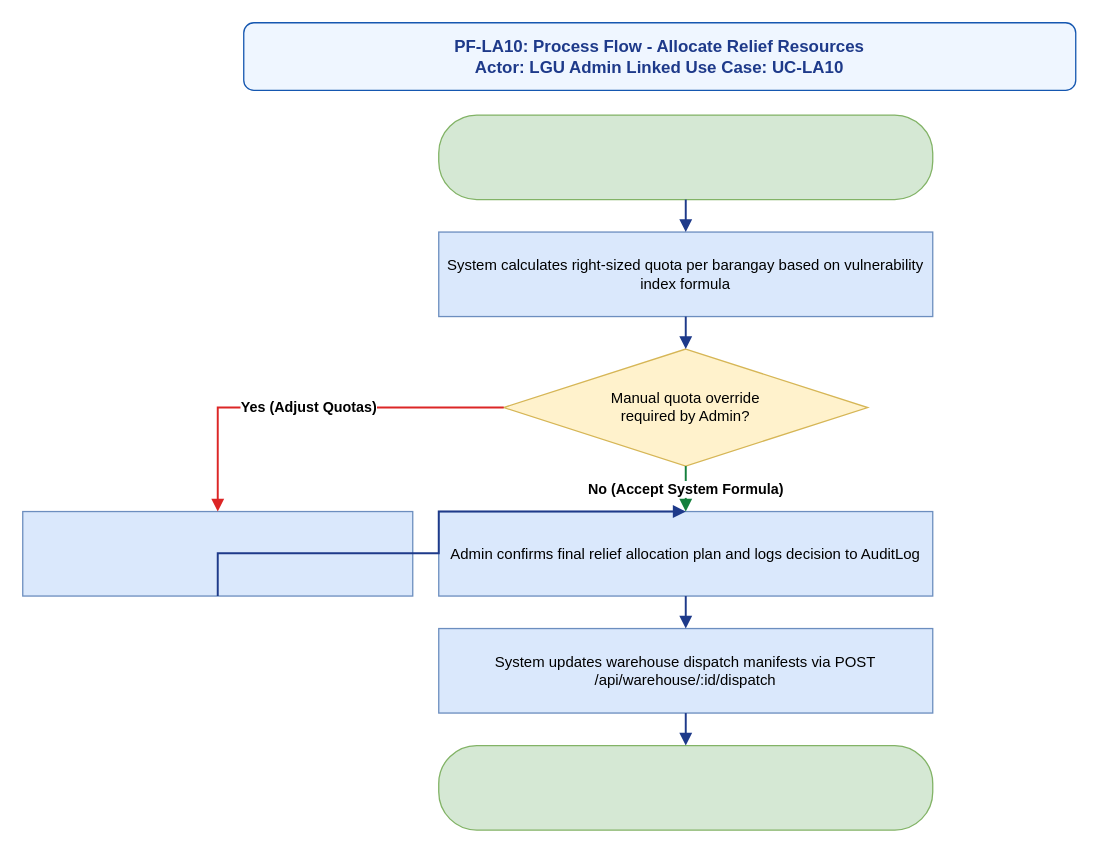
Image size: 1099x853. Some labels were removed from this diagram. The centre of each missing label's shape, as x and y in pixels:
"Admin manually fine-tunes specific barangay package quotas in modal" goes at pixel 217 553.
"END: Relief resources allocated equitably across all barangays" goes at pixel 685 787.
"START: LGU Admin opens ReliefAllocationPage.jsx" goes at pixel 685 157.
